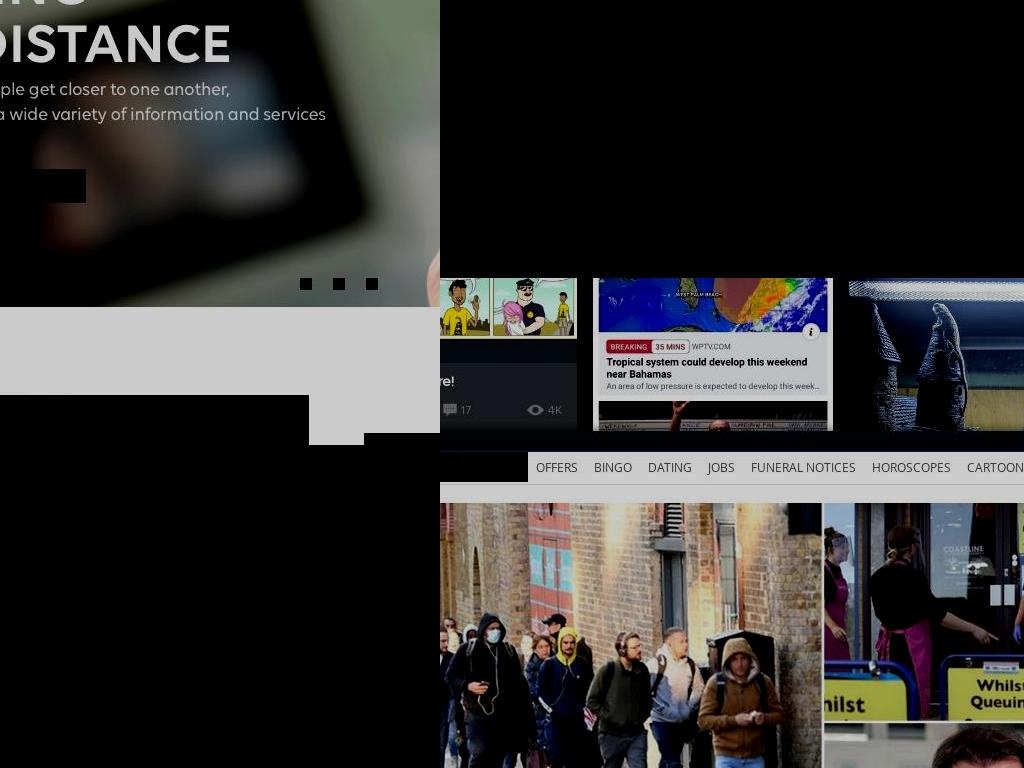button: (440, 503, 1024, 768), (593, 238, 833, 445), (849, 238, 1024, 445), (31, 684, 440, 768), (440, 238, 577, 432), (536, 36, 646, 166), (658, 36, 768, 166), (780, 36, 890, 166), (902, 36, 1012, 166), (440, 36, 524, 166), (31, 650, 440, 674), (347, 525, 440, 565), (743, 452, 864, 482), (0, 169, 86, 203), (864, 452, 959, 482), (440, 452, 528, 482), (959, 452, 1024, 482), (640, 452, 700, 482), (528, 452, 586, 482), (586, 452, 640, 482), (700, 452, 743, 482), (243, 539, 285, 551), (300, 278, 312, 290), (333, 278, 345, 290), (366, 278, 378, 290)
image: (440, 0, 1024, 278), (440, 503, 1024, 768), (593, 238, 833, 445), (849, 238, 1024, 445), (440, 238, 577, 365), (0, 395, 309, 445), (989, 204, 1012, 222), (526, 404, 545, 416), (442, 403, 457, 417)
link: (0, 445, 440, 768), (39, 538, 114, 552), (122, 538, 172, 552), (0, 538, 32, 552)
text: (670, 102, 756, 134), (792, 102, 878, 134), (914, 102, 1000, 134), (548, 118, 634, 134), (548, 138, 634, 154), (670, 138, 756, 154), (792, 138, 878, 154), (914, 138, 1000, 154), (440, 118, 512, 134), (440, 138, 512, 154), (871, 205, 943, 221), (292, 539, 332, 551), (548, 402, 563, 420), (460, 402, 472, 420)
